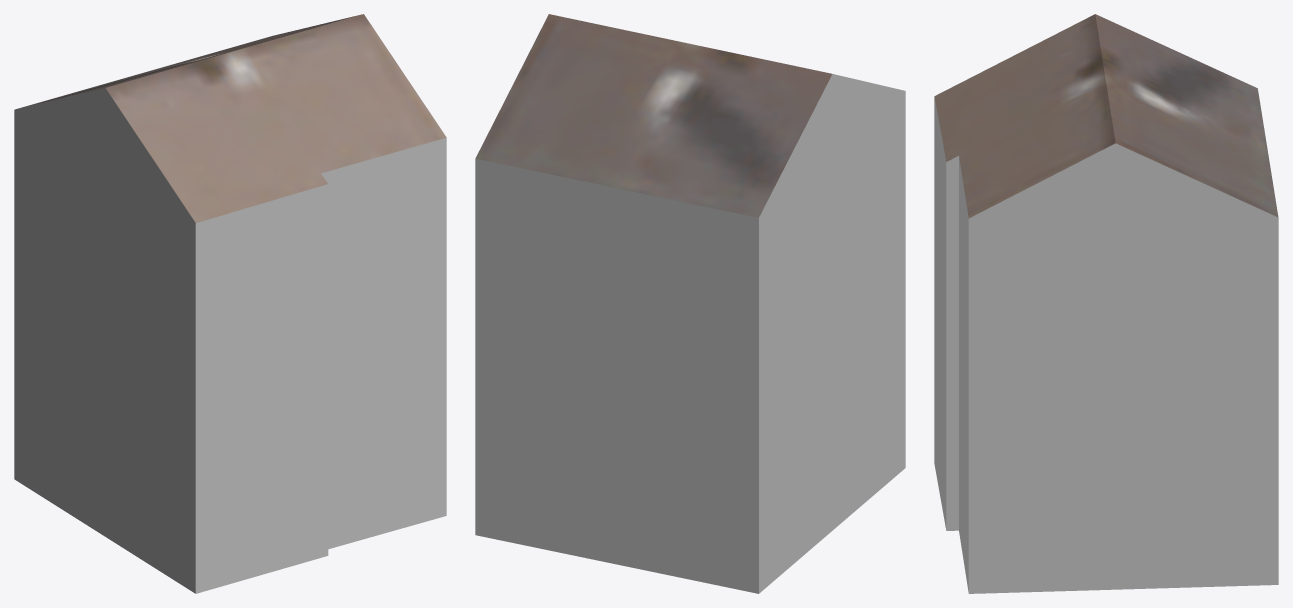
File: DEBW_0010007Txiw.gltf
3 renders of one model, left to right at view 1: azimuth 30°, elevation 25°; view 2: azimuth 150°, elevation 25°; view 3: azimuth 270°, elevation 25°, orthographic. The views are drawn at different scales.
Visible parts, largest first — view 1: Z_UP; view 2: Z_UP; view 3: Z_UP.
Boxes of the visible parts, bbox=[...] form: Z_UP: bbox=[14, 14, 446, 593]; Z_UP: bbox=[475, 14, 905, 593]; Z_UP: bbox=[934, 14, 1278, 593].
Size of the model in its own units: 9.68 by 14.5 by 10.13.
2 materials, 1 textured.
